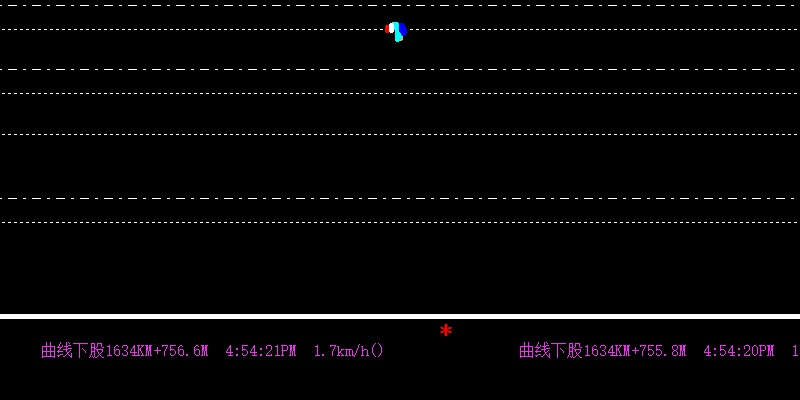face_2: (382, 21, 406, 42)
star: (436, 320, 455, 339)
